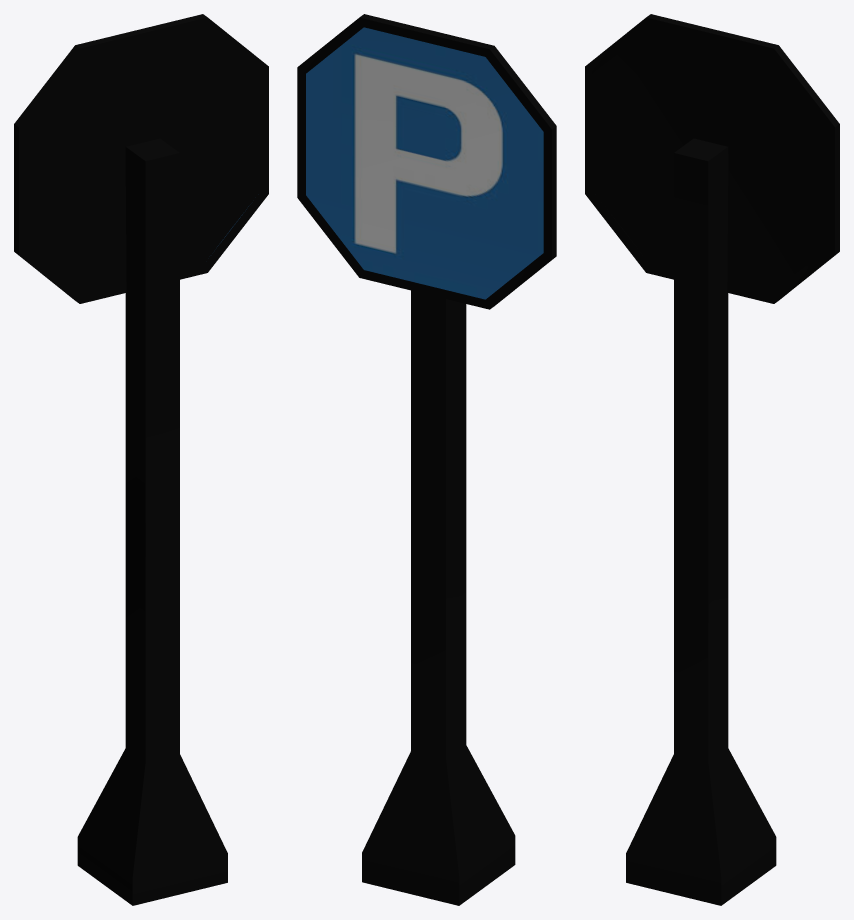
The model's file is parking sign board.fbx.
3 renders of one model, left to right at view 1: azimuth 30°, elevation 25°; view 2: azimuth 150°, elevation 25°; view 3: azimuth 330°, elevation 25°, orthographic.
Parts seen in each view (by area): view 1: parking; view 2: parking; view 3: parking.
Part boxes in pixels (box(x1,y1,x2,y2)): parking: box(14, 14, 268, 905); parking: box(297, 14, 556, 905); parking: box(585, 14, 839, 905).
Size of the model in its own units: 106 by 337 by 40.26.
